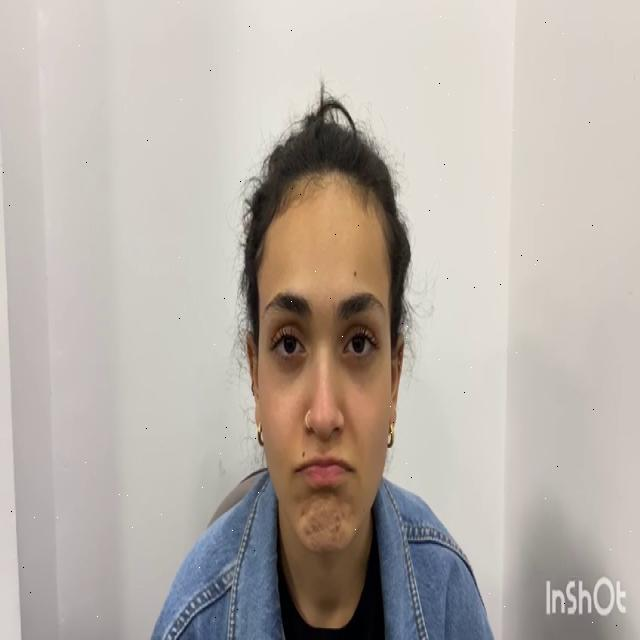sad: (248, 188, 406, 558)
